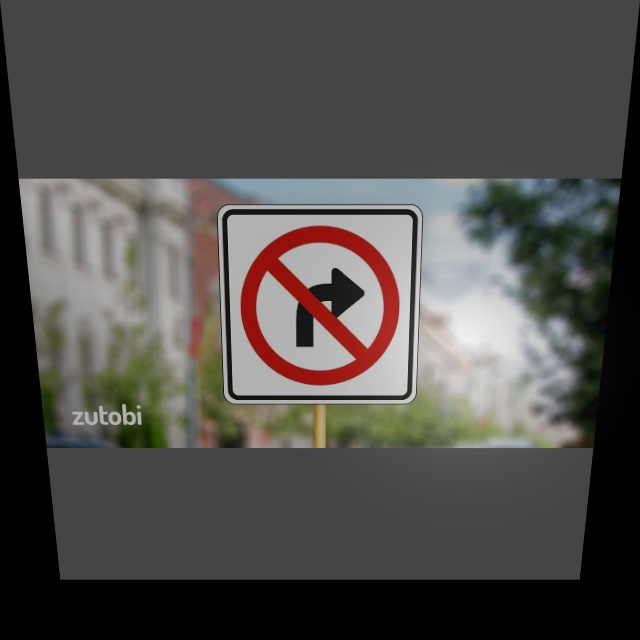Right_Turn_Prohibited: (235, 218, 410, 390)
